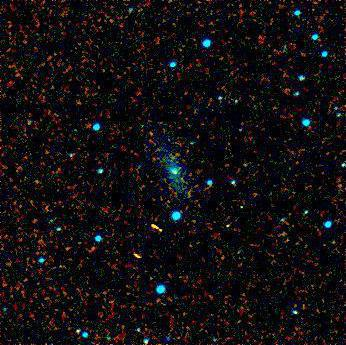star: (211, 212, 241, 242)
